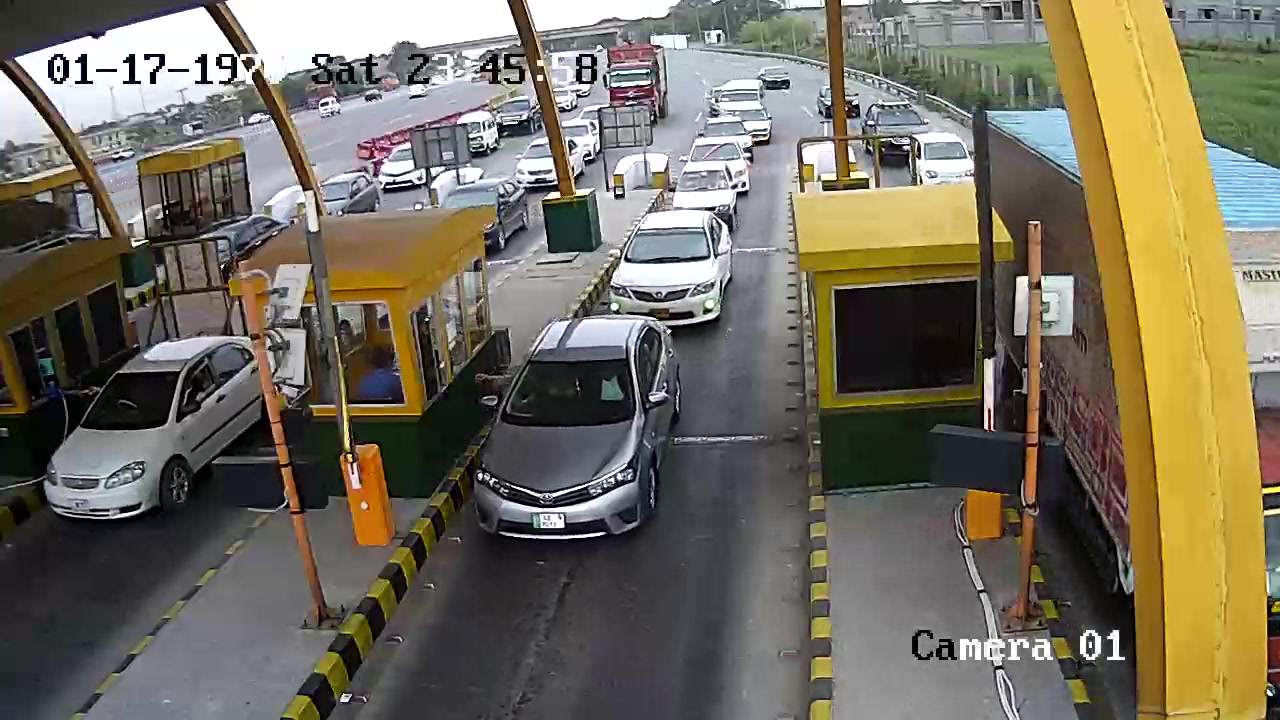F1: (464, 309, 685, 550), (605, 211, 743, 316)
